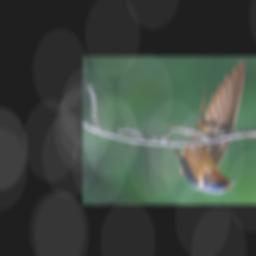Swallow: (166, 59, 247, 194)
